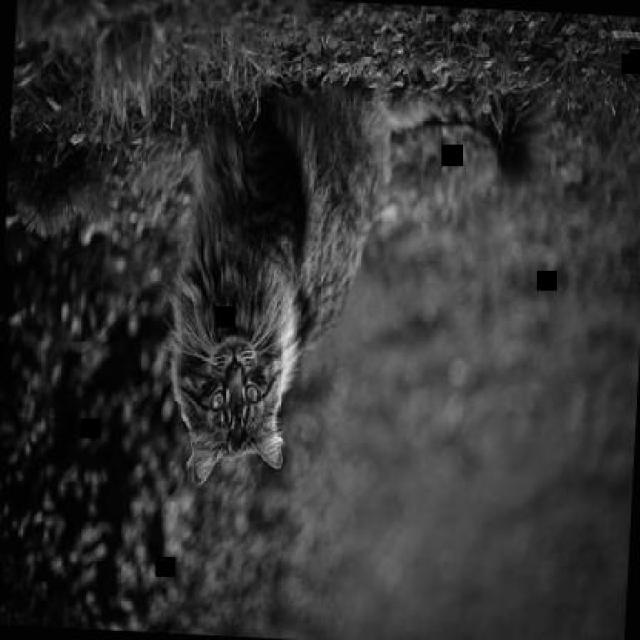cat: (162, 71, 544, 502)
